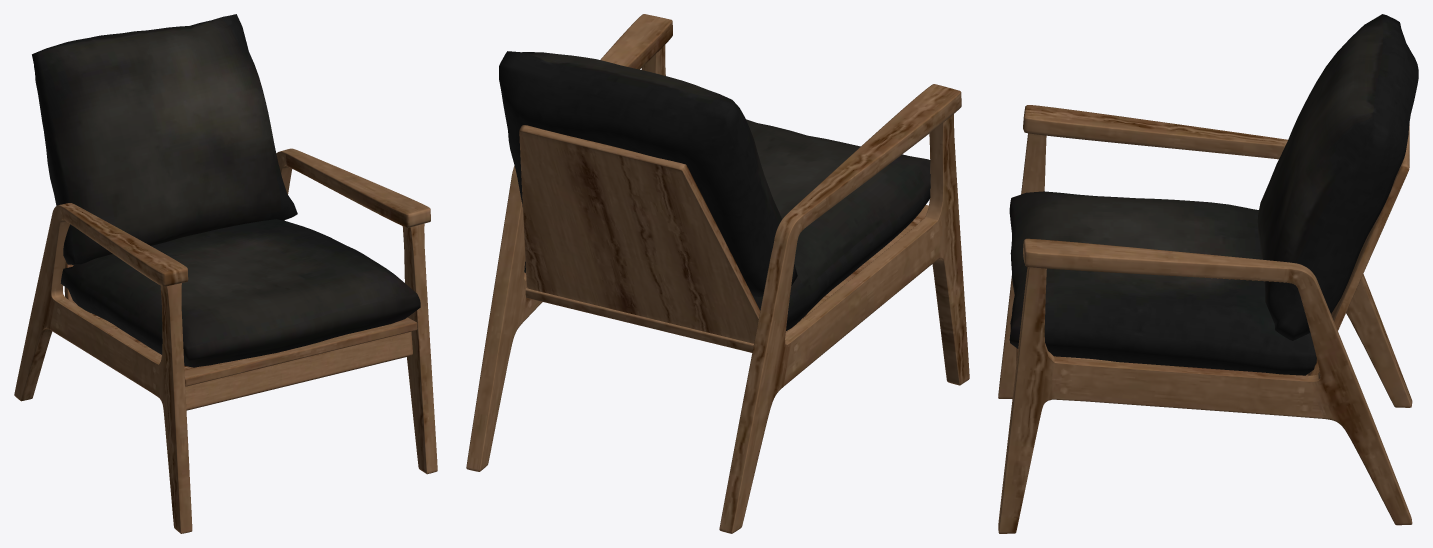
Rendered from modern-arm-chair-01.glb.
3 renders of one model, left to right at view 1: azimuth 30°, elevation 25°; view 2: azimuth 150°, elevation 25°; view 3: azimuth 270°, elevation 25°, orthographic. The views are drawn at different scales.
Visible parts, largest first — view 1: modern_arm_chair_01; view 2: modern_arm_chair_01; view 3: modern_arm_chair_01.
Boxes of the visible parts, x1,y1,x2,y2 form: modern_arm_chair_01: [14, 14, 437, 533]; modern_arm_chair_01: [466, 14, 969, 533]; modern_arm_chair_01: [998, 14, 1418, 533].
Bounding box in the file's own units: 0.8203 × 1.02 × 0.9865.
2 materials, 2 textured.
